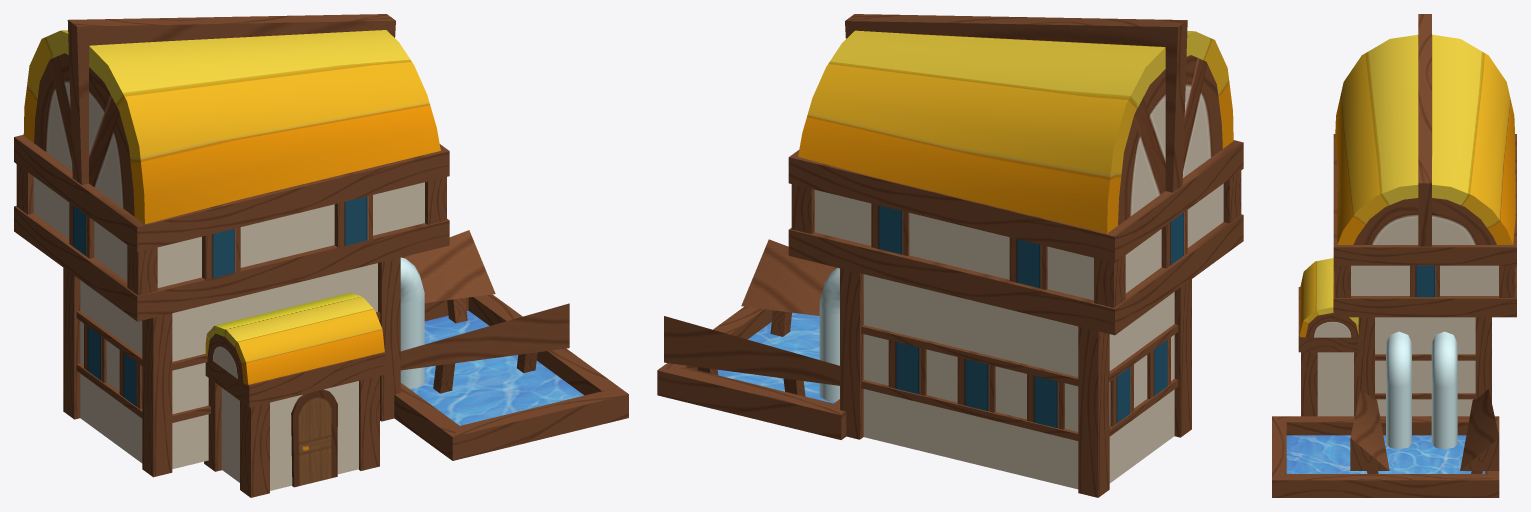
The model's file is building_potion_lv4.FBX.
3 renders of one model, left to right at view 1: azimuth 30°, elevation 25°; view 2: azimuth 150°, elevation 25°; view 3: azimuth 270°, elevation 25°, orthographic. The views are drawn at different scales.
Parts seen in each view (by area): view 1: building_potion_lv5, building_potion_roof_lv5, building_potion_pipeout_lv5; view 2: building_potion_roof_lv5, building_potion_lv5, building_potion_pipeout_lv5; view 3: building_potion_roof_lv5, building_potion_lv5, building_potion_pipeout_lv5.
Part boxes in pixels (x1=…): building_potion_lv5: x1=14, y1=14, x2=628, y2=497; building_potion_roof_lv5: x1=23, y1=30, x2=440, y2=490; building_potion_pipeout_lv5: x1=400, y1=257, x2=424, y2=388; building_potion_roof_lv5: x1=798, y1=30, x2=1233, y2=489; building_potion_lv5: x1=657, y1=14, x2=1243, y2=497; building_potion_pipeout_lv5: x1=819, y1=267, x2=839, y2=401; building_potion_roof_lv5: x1=1299, y1=34, x2=1515, y2=416; building_potion_lv5: x1=1272, y1=14, x2=1516, y2=497; building_potion_pipeout_lv5: x1=1386, y1=331, x2=1457, y2=449.
Bounding box in the file's own units: 569 × 530 × 358.
